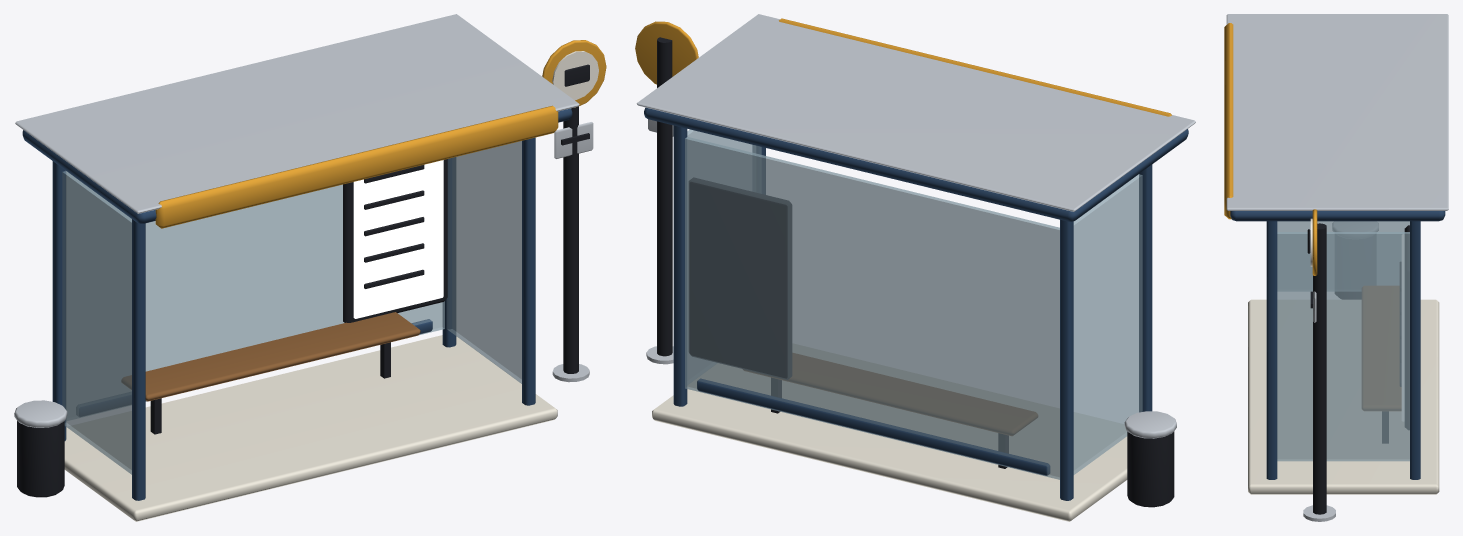
Rendered from bus_stop.glb.
The picture shows the model from 3 angles, left to right: view 1: azimuth 30°, elevation 25°; view 2: azimuth 150°, elevation 25°; view 3: azimuth 270°, elevation 25°; orthographic projection. The views are drawn at different scales.
Parts seen in each view (by area): view 1: bus_stop; view 2: bus_stop; view 3: bus_stop.
Part boxes in pixels (box(x1,y1,x2,y2)): bus_stop: box(14, 14, 606, 521); bus_stop: box(635, 14, 1195, 521); bus_stop: box(1224, 14, 1448, 521).
Bounding box in the file's own units: 4.93 × 2.83 × 1.88.
